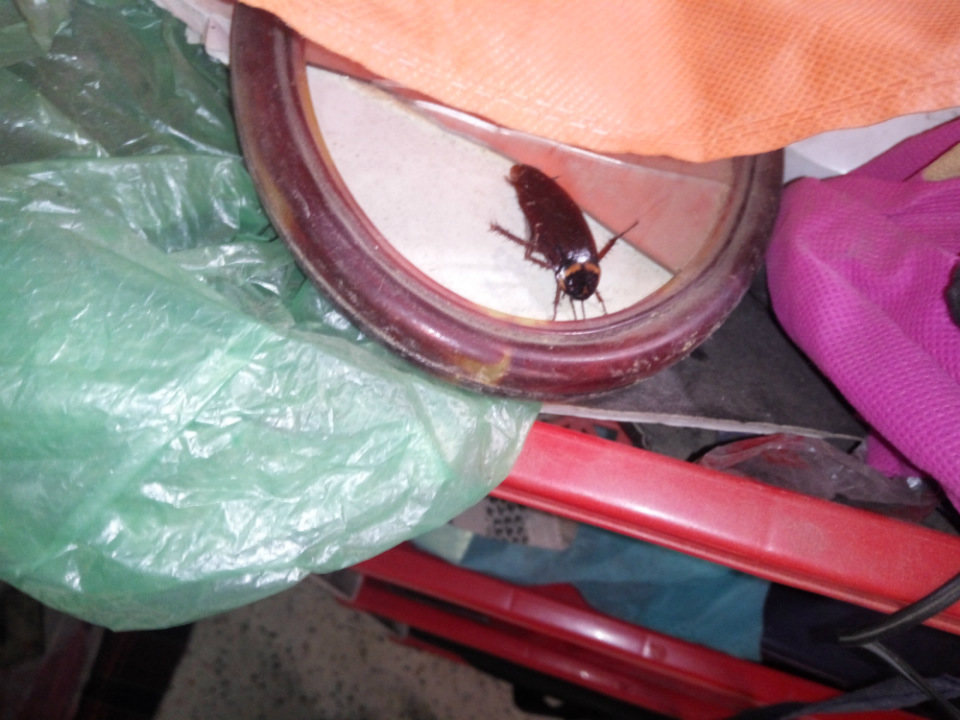cockroach: (419, 147, 664, 325)
